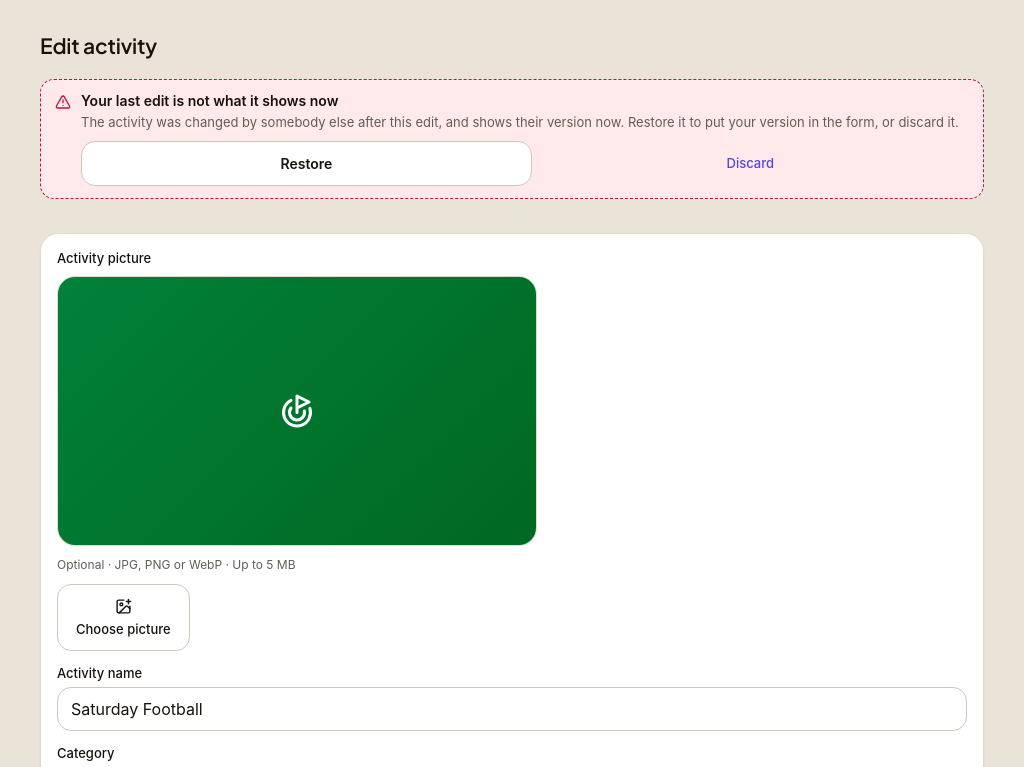
Test: editing an activity › an edit somebody else overtook is offered as a choice, not as a failed save
Expected: the message shows "Your last edit is not what it shows now", x1=81 y1=92 x2=338 y2=109
Expected: the message shows "changed by somebody else", x1=81 y1=114 x2=624 y2=130
Click the button "Restore" at (306, 163), box x1=81 y1=141 x2=532 y2=186
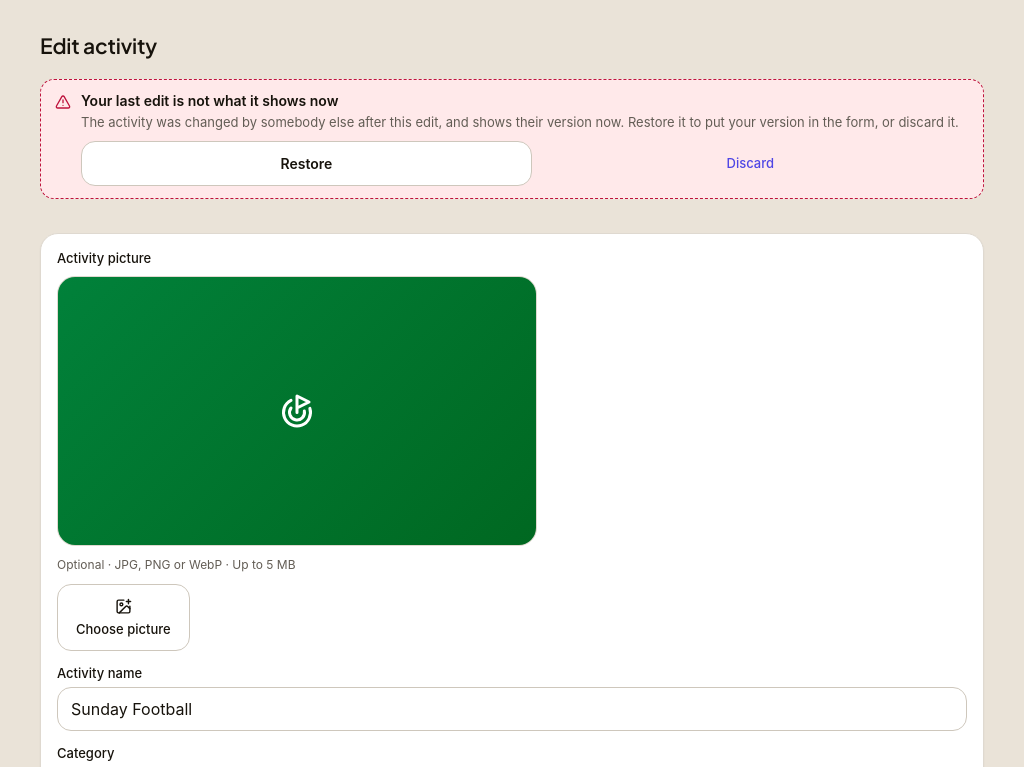
Expected: the field showing "Sunday Football" is shown, x1=57 y1=687 x2=967 y2=731
